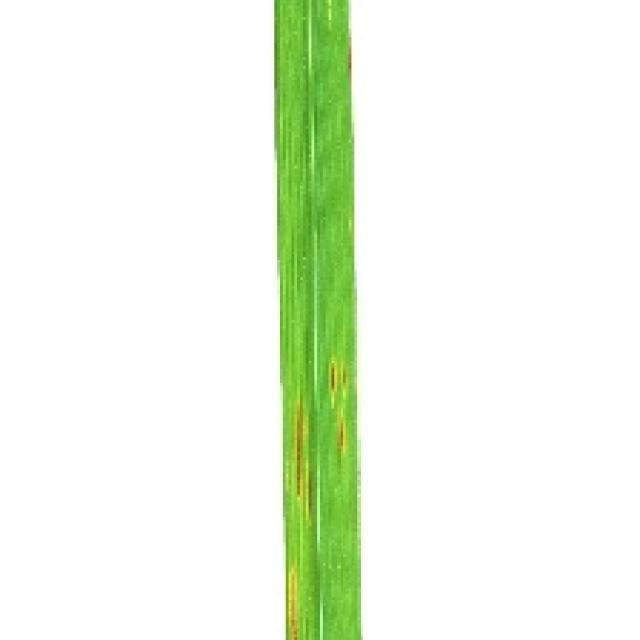Unhealthy: (297, 397, 304, 496), (290, 567, 299, 640), (308, 472, 315, 516), (338, 418, 347, 451), (348, 28, 353, 86), (331, 362, 337, 401), (342, 367, 347, 387)
